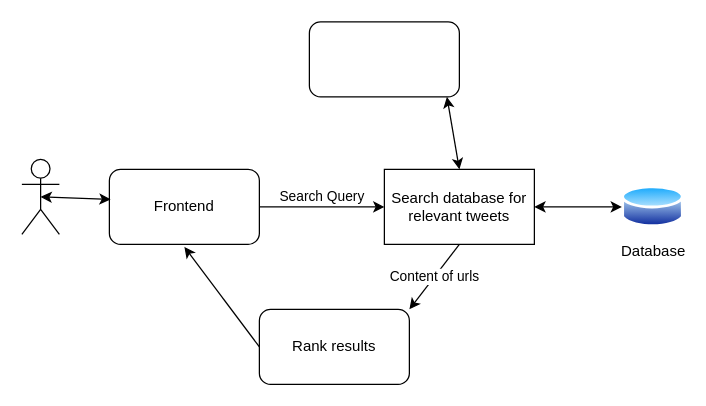
The diagram is 706 pixels wide and 406 high, and some of its shapes have lost their labels. The centre of each missing label's shape, as x and y in pixels:
Crawl urls contained in tweets: the point at 383,59
User: the point at 40,196
